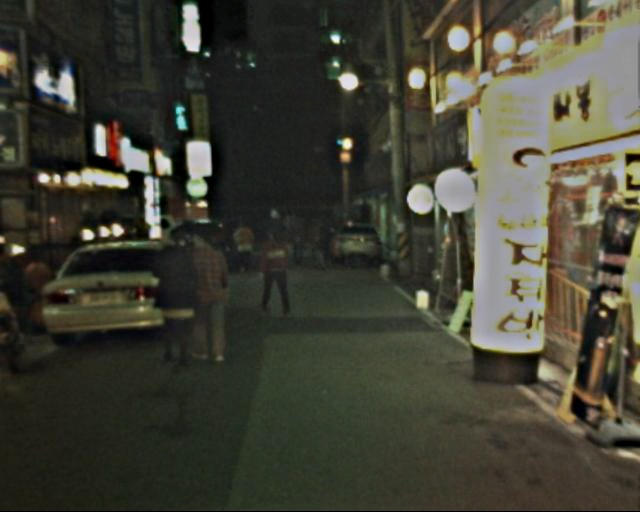person: (149, 222, 204, 375), (182, 221, 237, 370), (256, 224, 295, 321), (268, 203, 297, 279), (230, 216, 259, 283), (314, 220, 335, 276)
